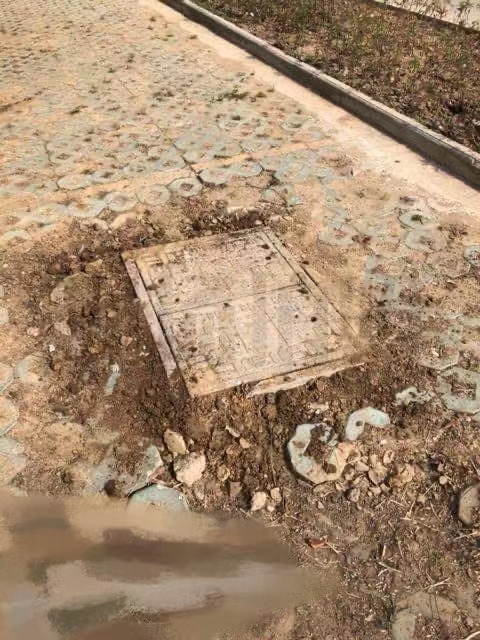circle: (99, 221, 392, 431)
